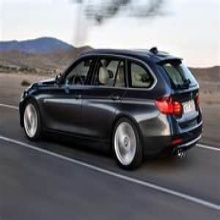no damage: (19, 48, 204, 170)
